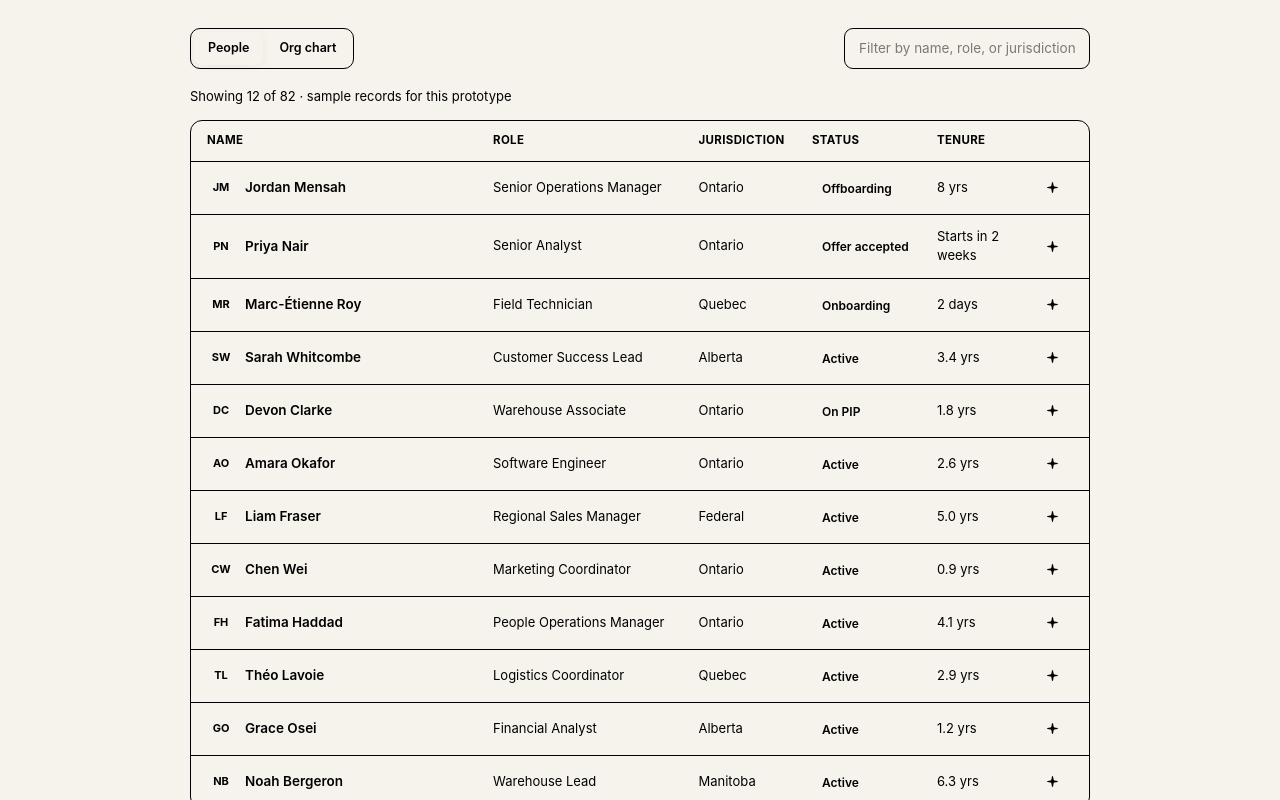
EmployeesView › switches to the org chart with stats and the reporting-line watch note
The image size is (1280, 800).
Click the tab "Org chart" at (308, 48), box [265, 32, 350, 65]
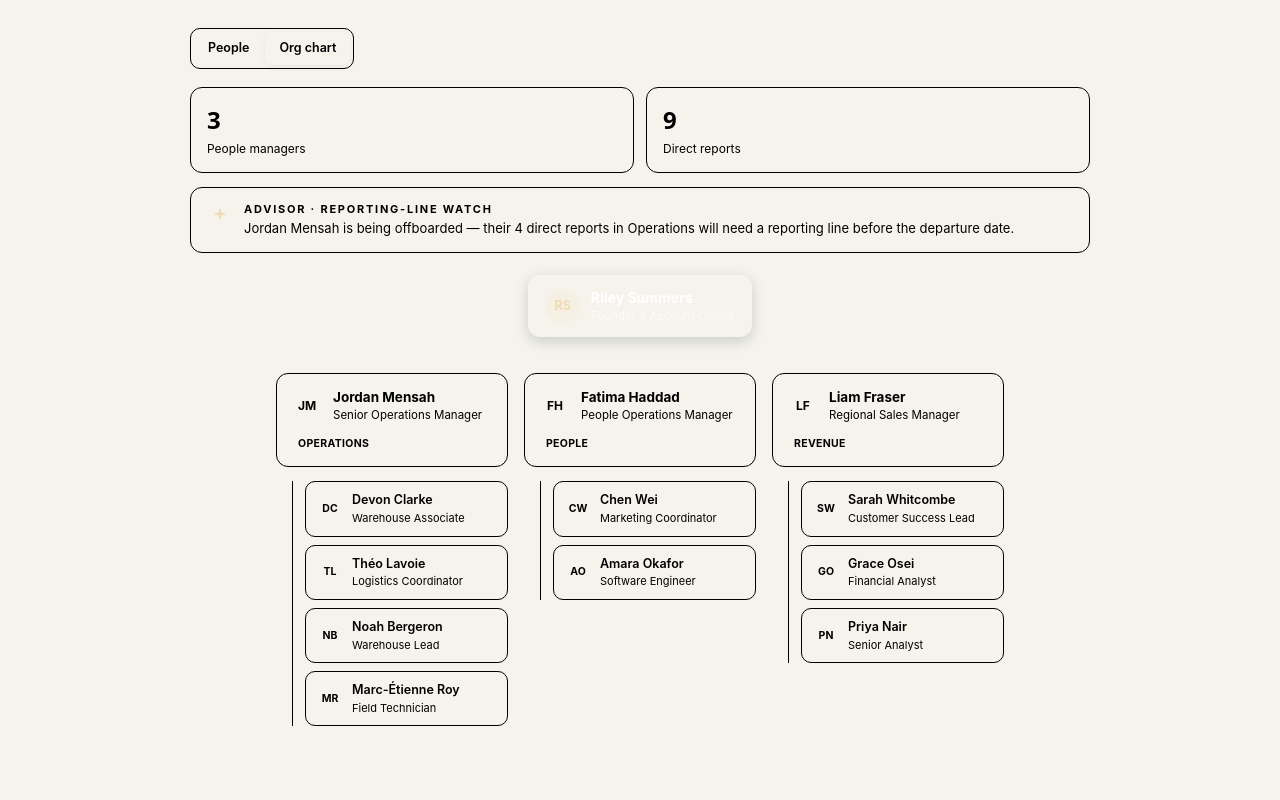
Expected: the text "People managers" is shown, [207, 141, 306, 156]
Expected: the text "Direct reports" is shown, [663, 141, 741, 156]
Expected: the text "Jordan Mensah is being offboarded — their 4 direct reports in Operations will need a reporting line before the departure" is shown, [244, 220, 1014, 236]
